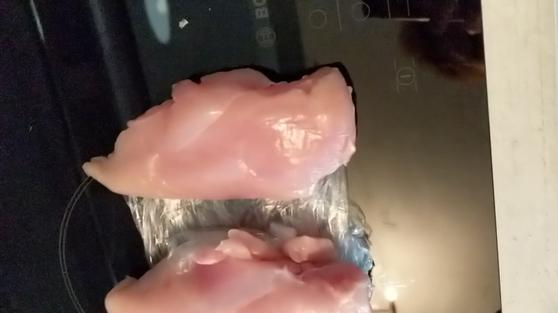chicken_fillet: (81, 63, 361, 199), (104, 229, 375, 312)
